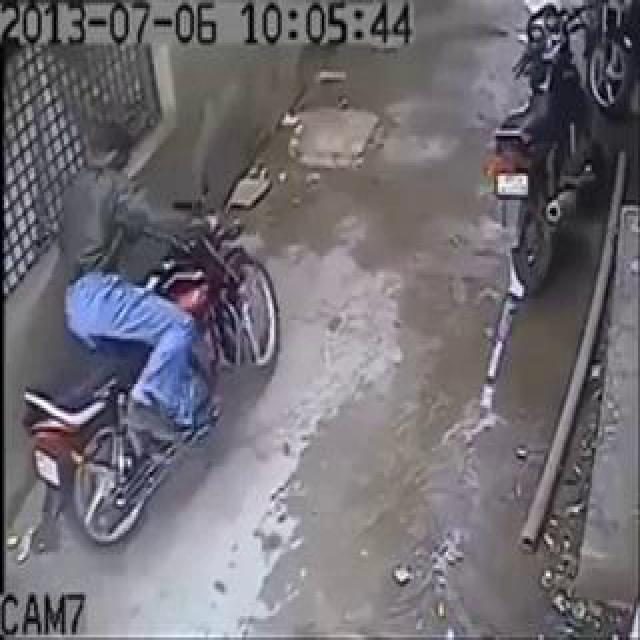stealing: (36, 82, 255, 607)
